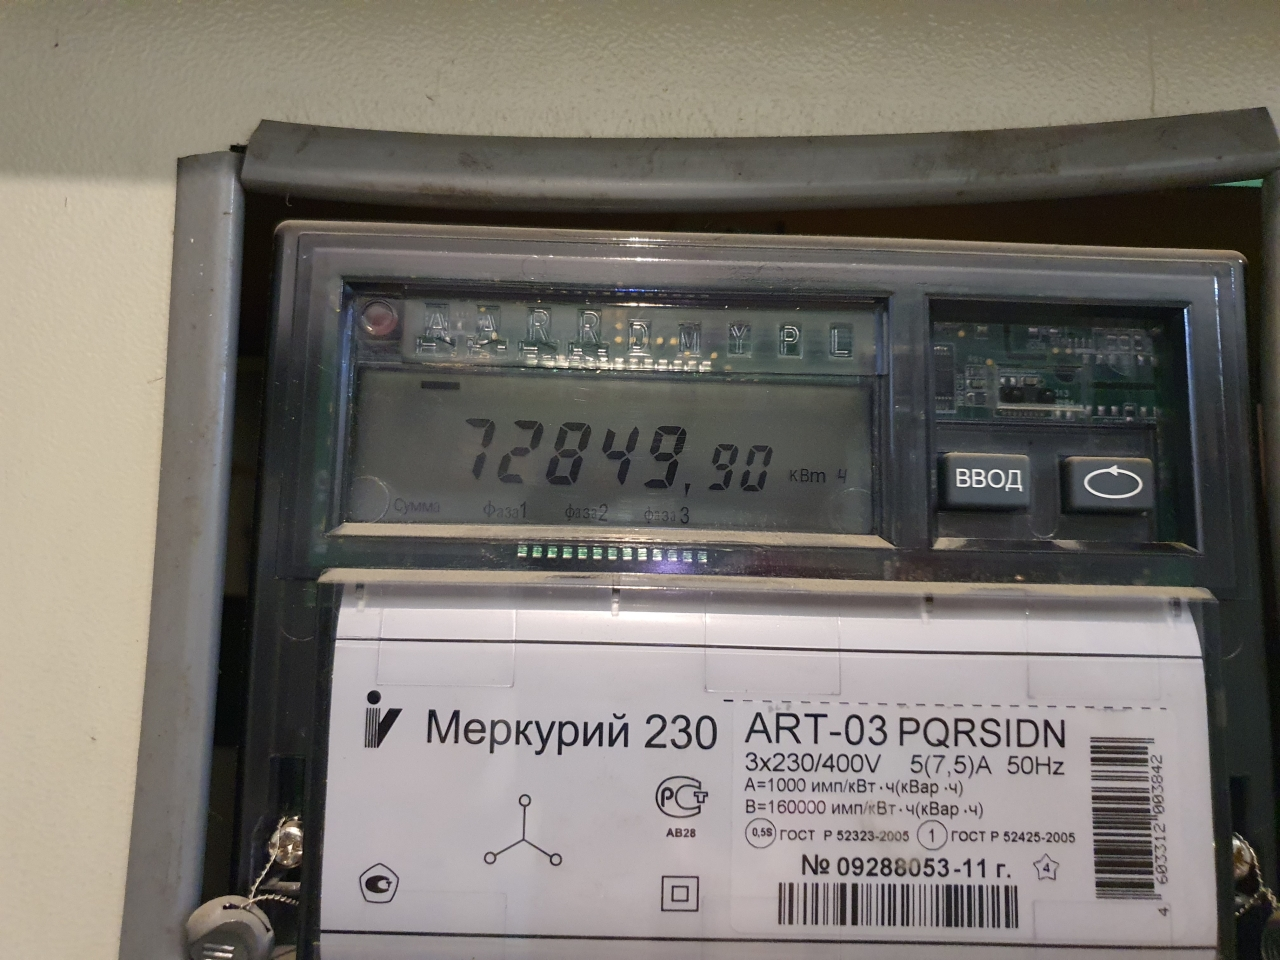screen: (315, 339, 909, 568)
